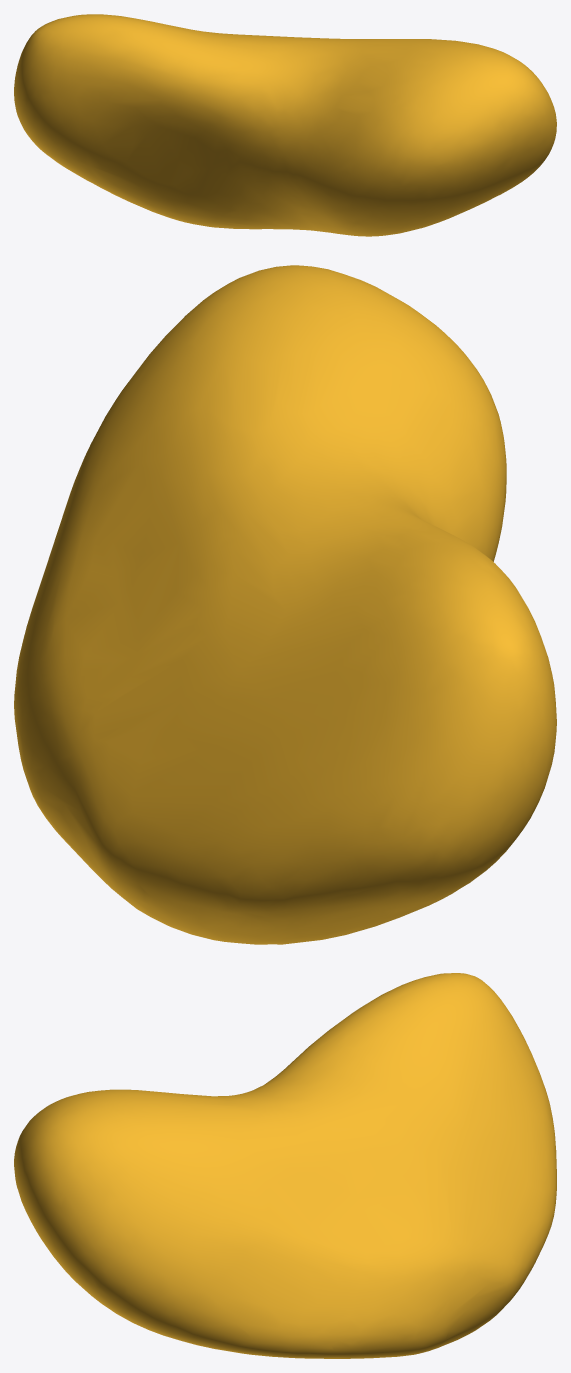
Rendered from nervoso-biventral-lobule-l.glb.
3 views of the same model, one above another, from view 1: azimuth 30°, elevation 25°; view 2: azimuth 150°, elevation 25°; view 3: azimuth 270°, elevation 25° (orthographic). The views are drawn at different scales.
Parts seen in each view (by area): view 1: Biventral lobule.l; view 2: Biventral lobule.l; view 3: Biventral lobule.l.
Part boxes in pixels (x1,y1,x2,y2): Biventral lobule.l: [14, 14, 556, 236]; Biventral lobule.l: [14, 265, 556, 944]; Biventral lobule.l: [14, 973, 556, 1358].
Size of the model in its own units: 0.0345 by 0.02 by 0.0355.
